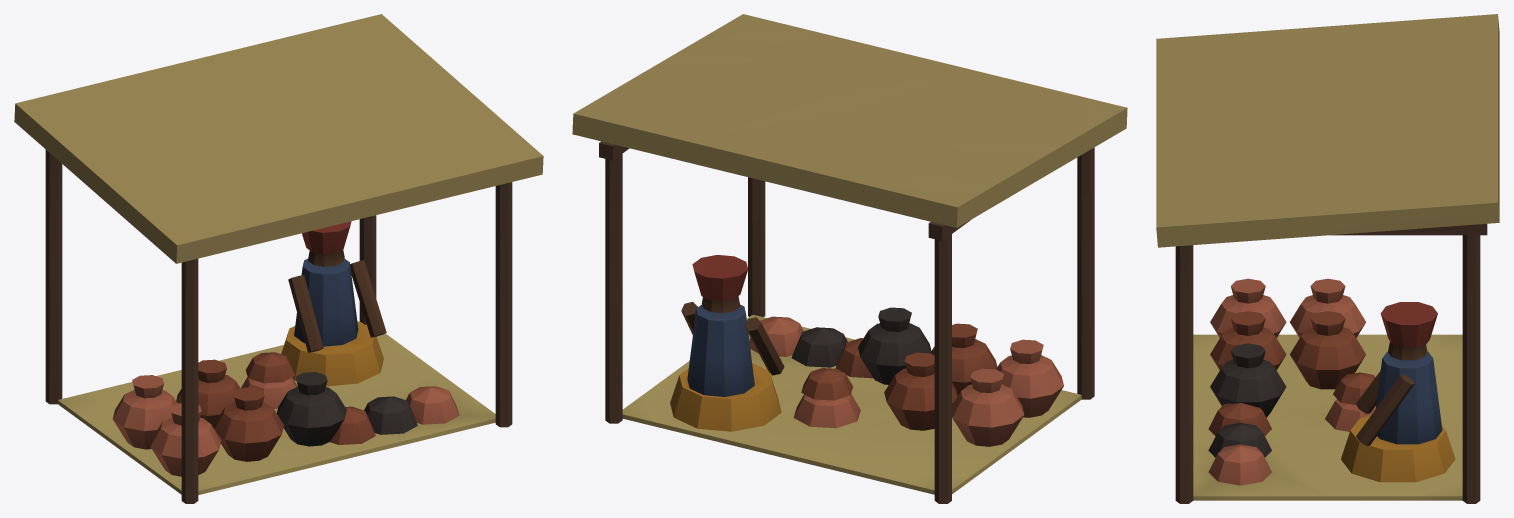
Rendered from stall-pots.glb.
3 renders of one model, left to right at view 1: azimuth 30°, elevation 25°; view 2: azimuth 150°, elevation 25°; view 3: azimuth 270°, elevation 25°, orthographic. The views are drawn at different scales.
Parts seen in each view (by area): view 1: base; view 2: base; view 3: base.
Part boxes in pixels (bbox=[...]): base: bbox=[14, 14, 543, 503]; base: bbox=[572, 14, 1127, 503]; base: bbox=[1156, 14, 1499, 503].
Bounding box in the file's own units: 2.8 × 2.16 × 2.15.
